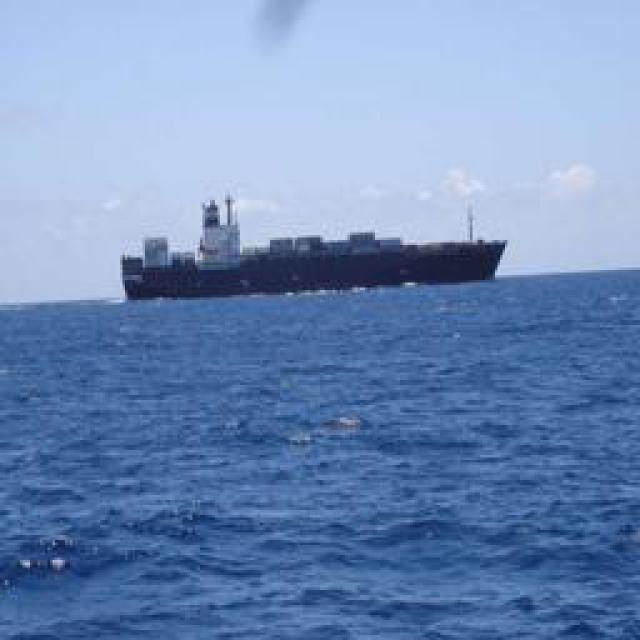Ship: (117, 196, 505, 301)
